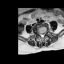CCS_normal: (41, 31, 42, 39)
LFS_normal: (44, 30, 46, 36)
LLS_normal: (42, 31, 44, 38)
RFS_normal: (38, 30, 39, 36)
RLS_normal: (39, 30, 41, 38)
